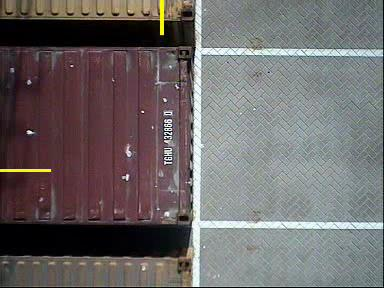groundmarker_2: (199, 148, 243, 199)
